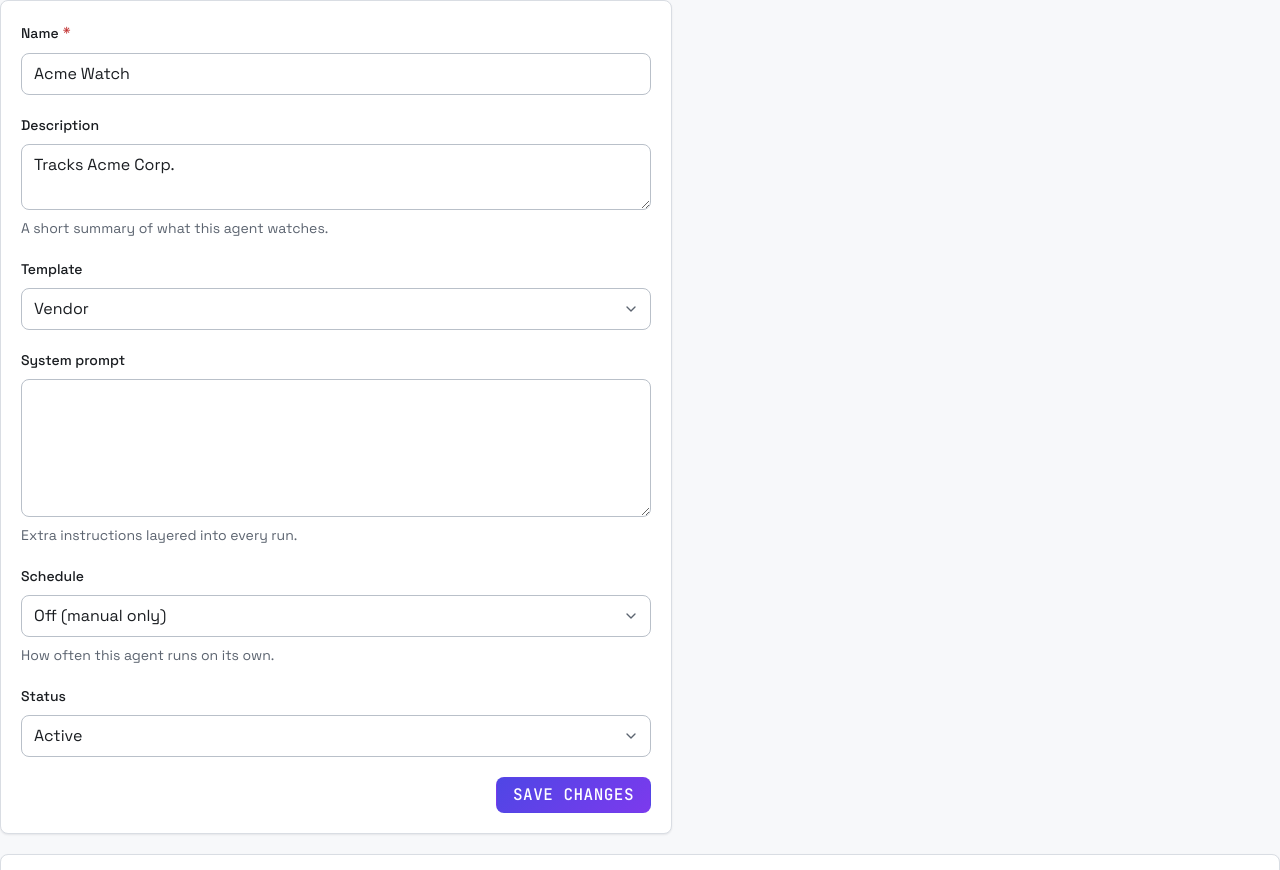
Scenario: SettingsTab › saves only the changed fields and shows a saved state
Replace the text in the text box labelled "Description" with "Tracks Acme + Beta.": [336, 177] box [21, 144, 651, 210]
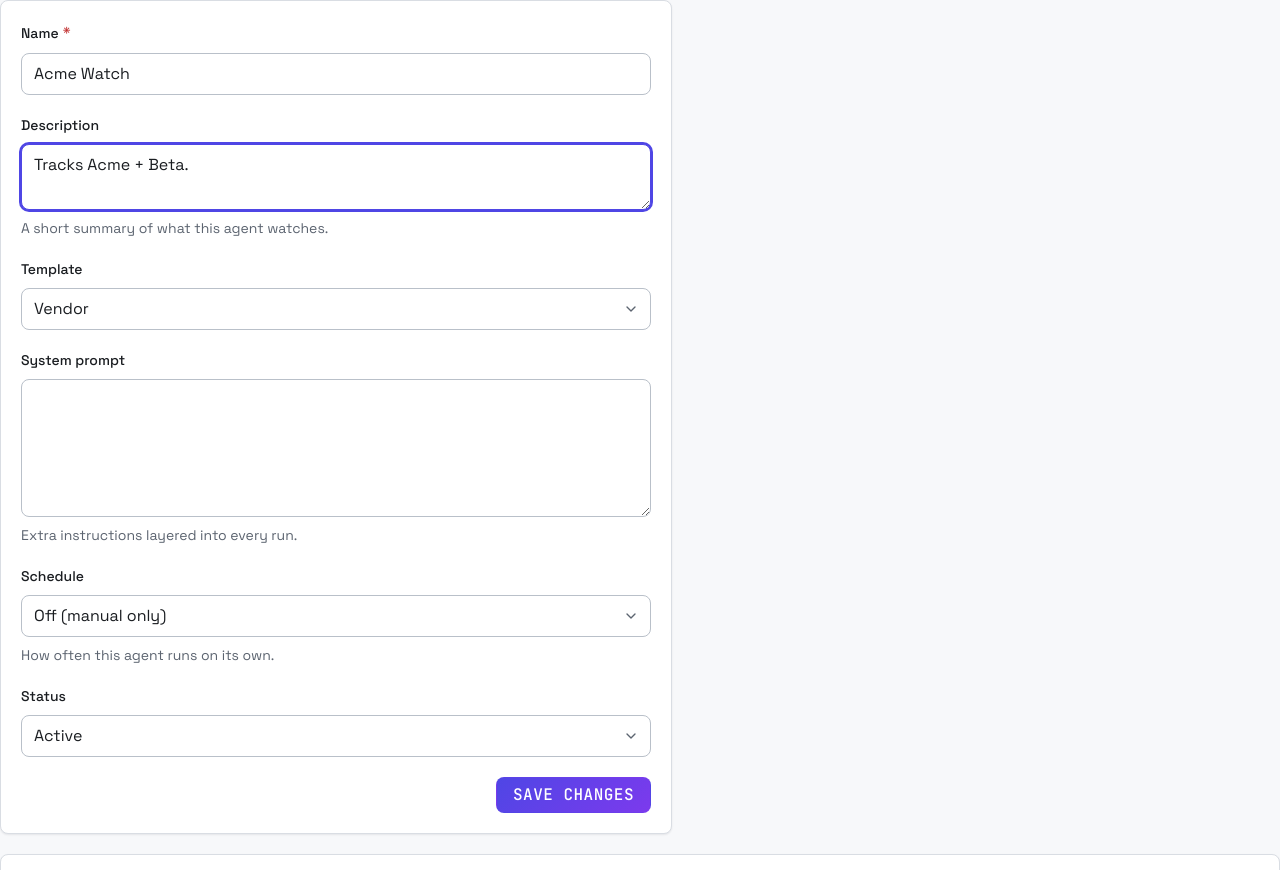
Select "Paused" in the dropdown labelled "Status": [336, 736] box [21, 715, 651, 757]
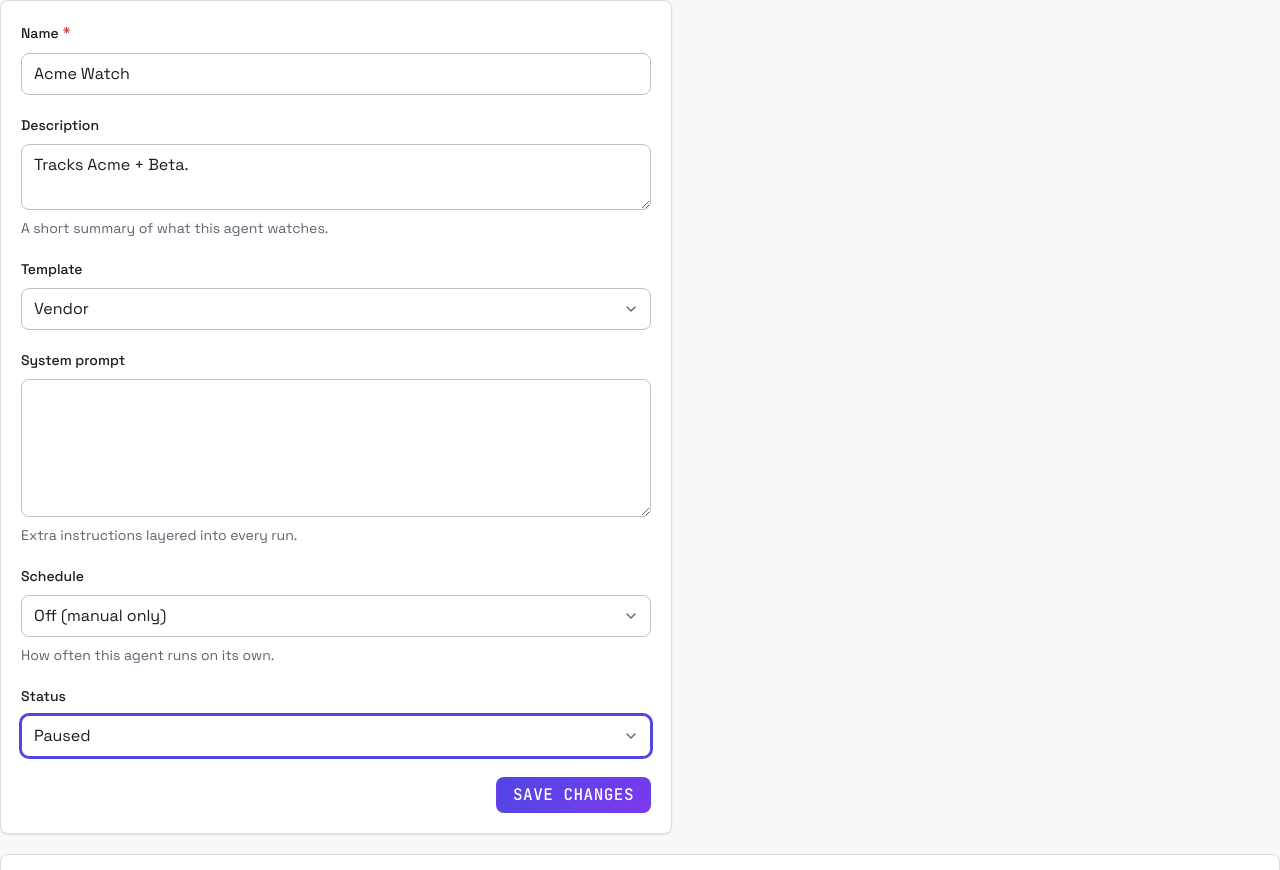
Click the button "Save changes": [574, 795] box [496, 777, 651, 813]
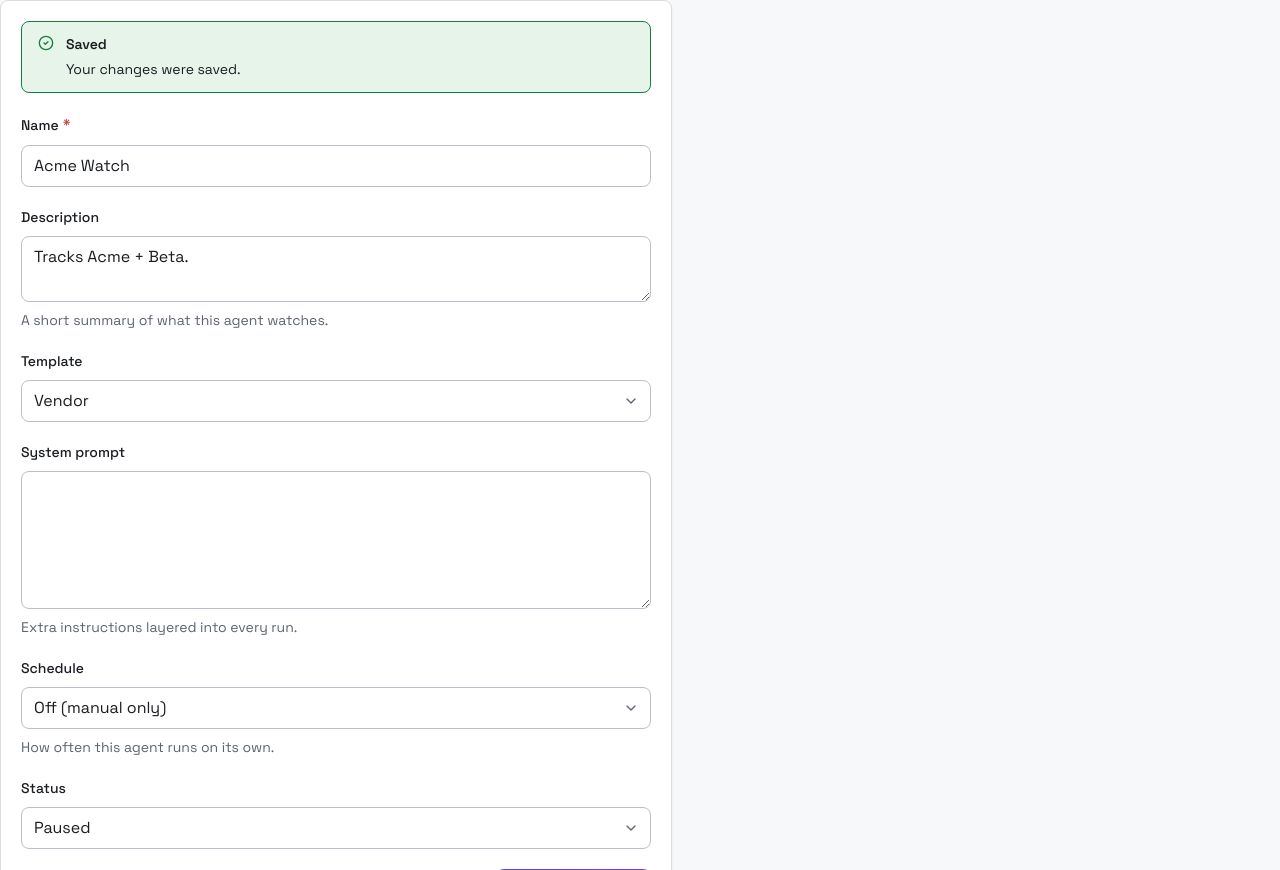
Expected: the text "Saved" is shown, [66, 35, 107, 53]
